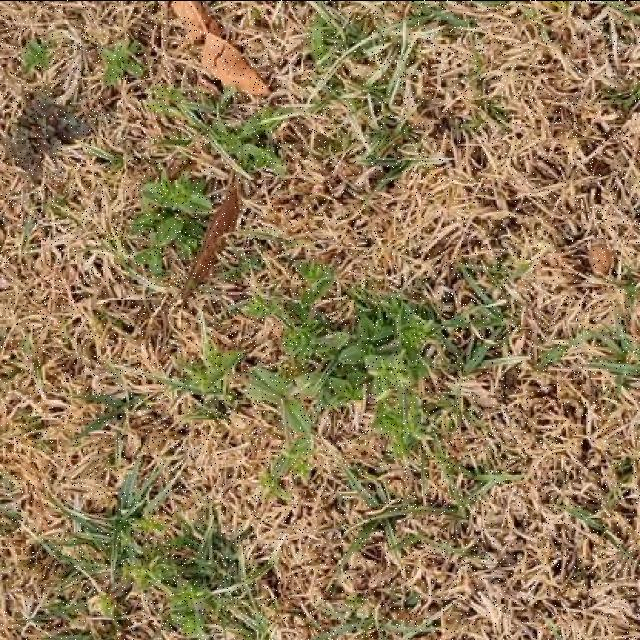weed: (131, 171, 214, 272)
